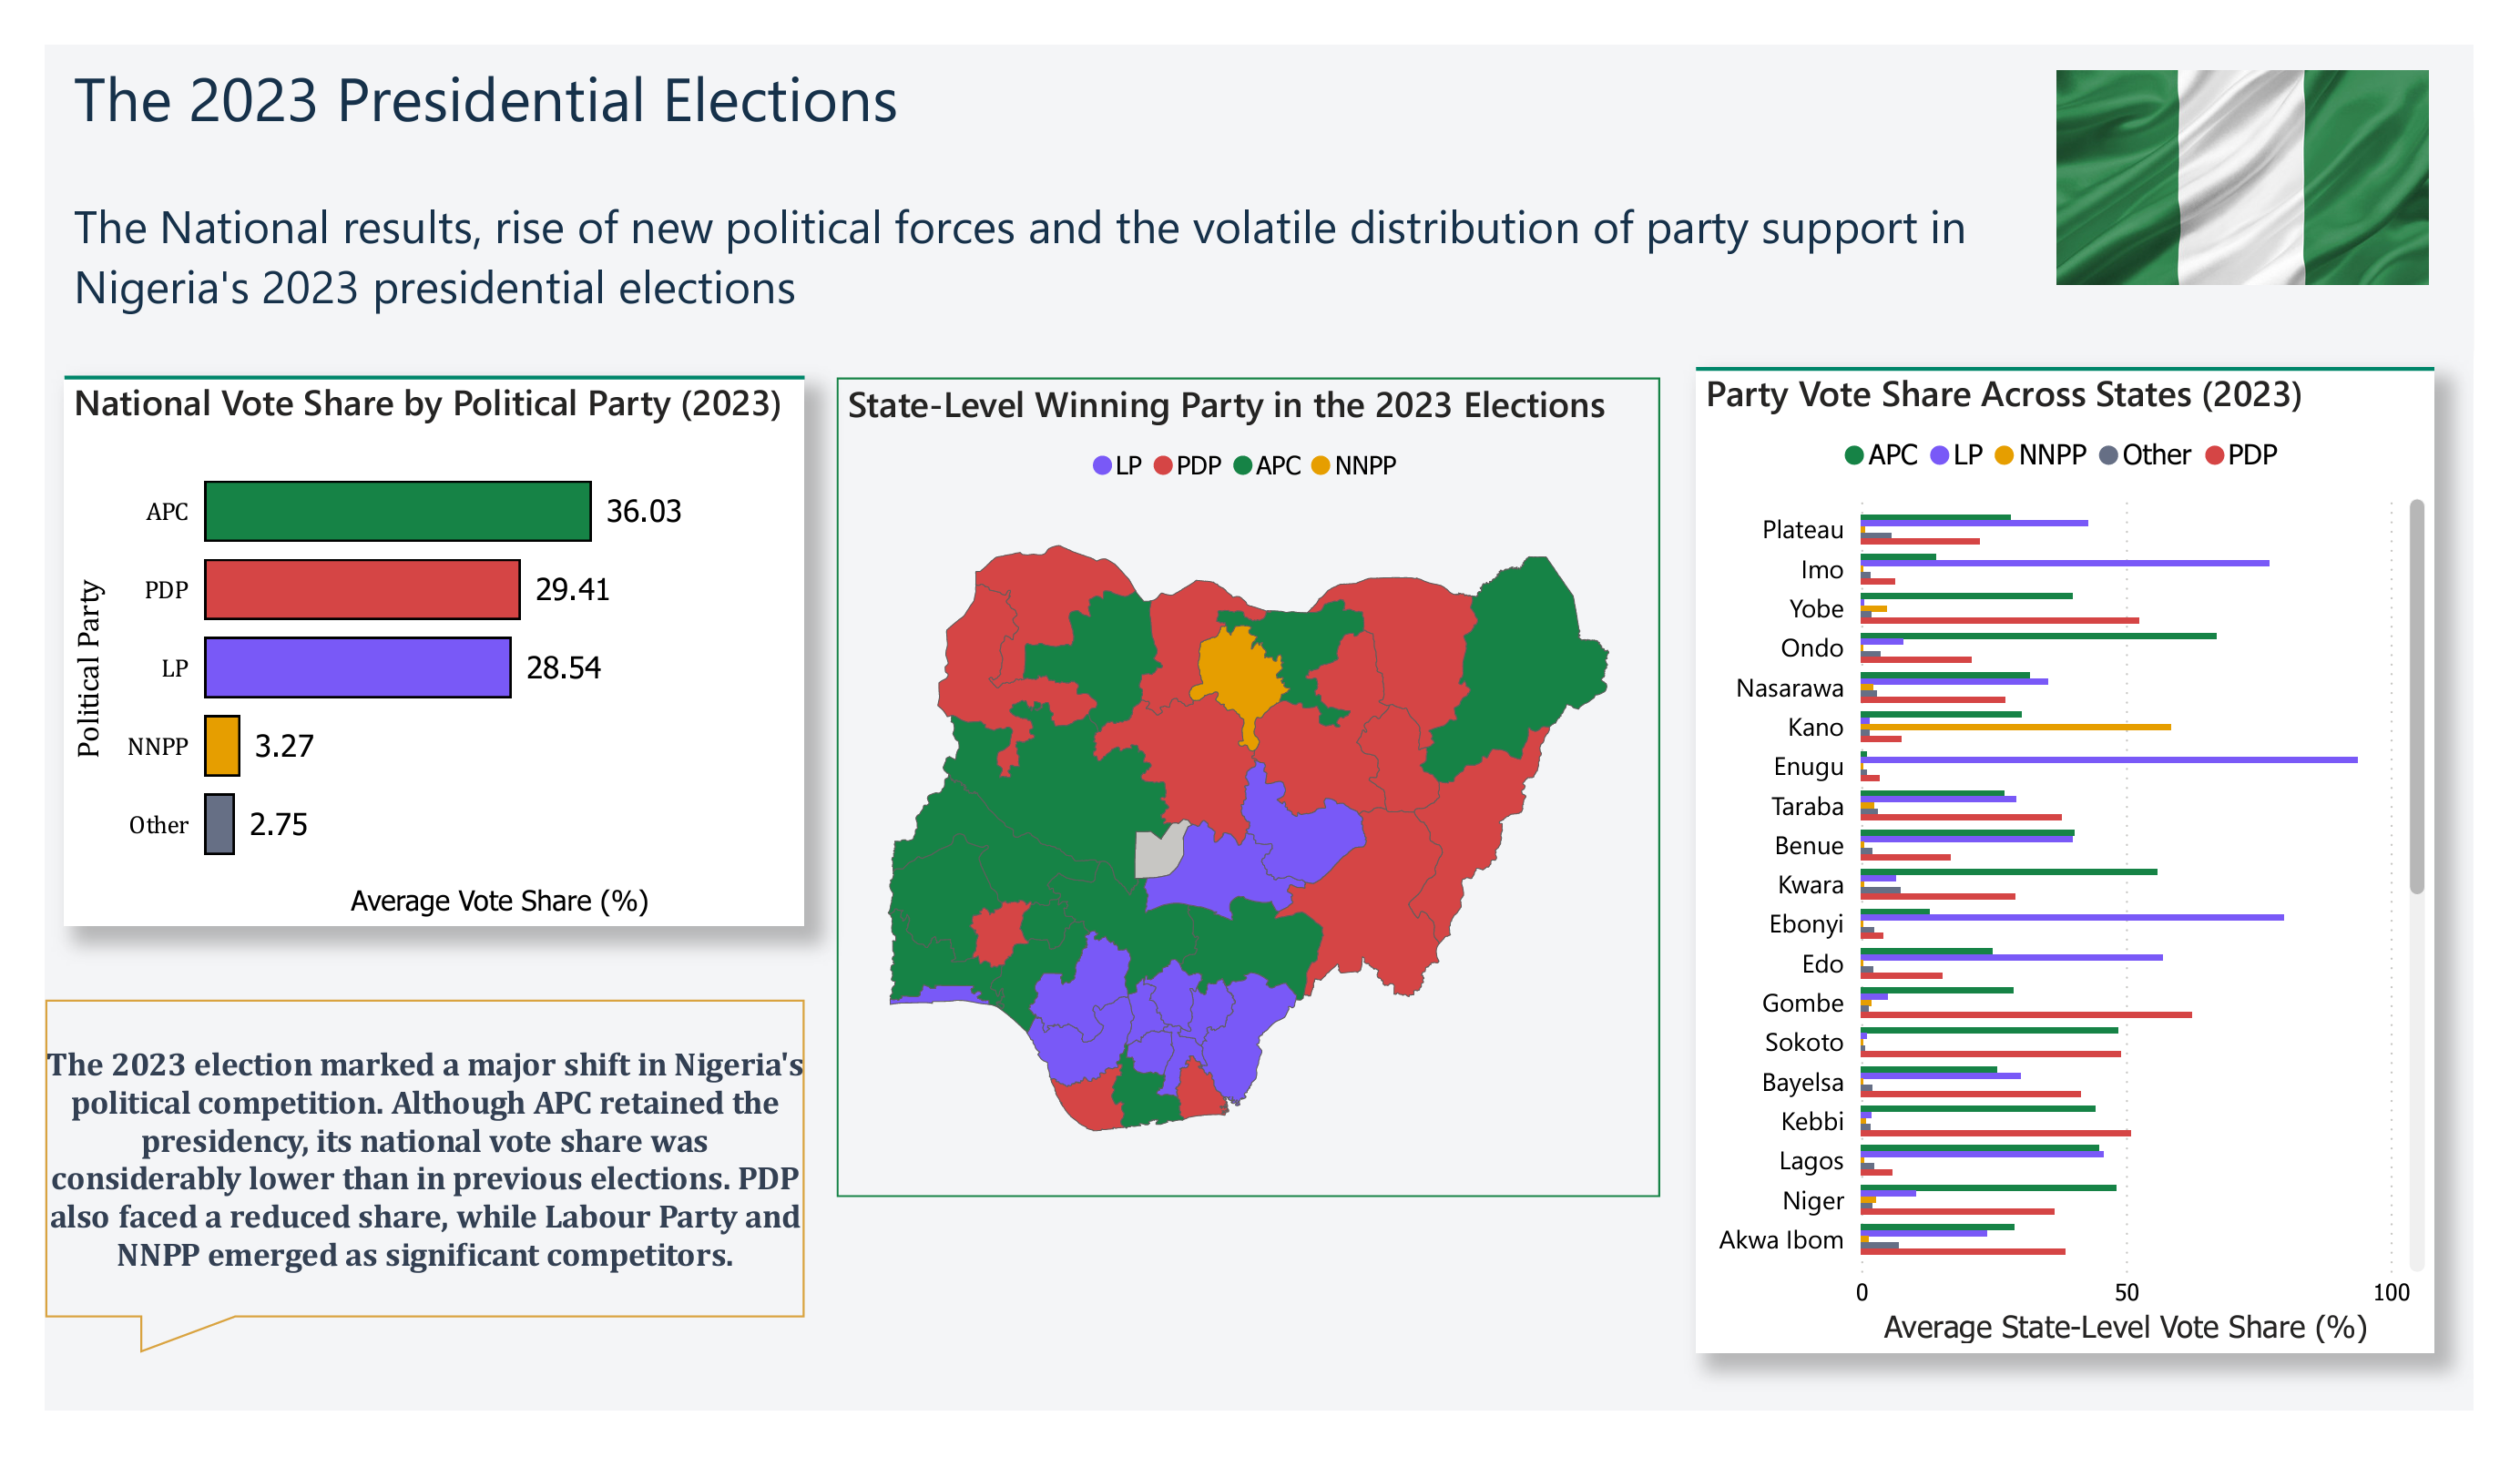

The dashboard page shown, as its layout file describes it:
{"tool":"powerbi","page":{"name":"THE 2023 ELECTIONS","canvas":[1280,720],"ordinal":5},"visuals":[{"type":"textbox","box":[10.3,0,445.2,60.2],"z":0},{"type":"image","box":[1046.2,13.2,223.3,113.1],"z":1000},{"type":"textbox","box":[10.3,73.5,1035.9,82.3],"z":2000},{"type":"clusteredBarChart","title":"National Vote Share by Political Party (2023)","fields":{"Category":["dim_party.party_name"],"Y":["Avg(fact_party_result.vote_share_pct)"]},"box":[10.3,174.9,389.4,289.5],"z":3000},{"type":"shape","box":[10.3,158.7,389.4,32.3],"z":4000},{"type":"shapeMap","title":"State-Level Winning Party in the 2023 Elections","fields":{"Category":["dim_state.state"],"Series":["fact_state_election.winner_2023_full_party"]},"box":[417.3,174.9,433.5,432],"z":5000},{"type":"clusteredBarChart","title":"Party Vote Share Across States (2023)","fields":{"Category":["dim_state.state"],"Series":["dim_party.party_name"],"Y":["Avg(fact_party_result.vote_share_pct)"]},"box":[869.9,170.4,389.4,518.7],"z":6000},{"type":"shape","box":[869.9,154.3,389.4,32.3],"z":7000},{"type":"shape","box":[0,502.5,399.7,186.6],"z":8000}]}

Visuals, with their boxes on the page's 1280x720 design canvas (x1, y1, x2, y2). These are canvas units, not pixel positions in the 2520x1457 screenshot, which may show the page scaled, cropped or inside an application window:
textbox: region(10, 0, 456, 60)
image: region(1046, 13, 1270, 126)
textbox: region(10, 74, 1046, 156)
"National Vote Share by Political Party (2023)" clusteredBarChart: region(10, 175, 400, 464)
shape: region(10, 159, 400, 191)
"State-Level Winning Party in the 2023 Elections" shapeMap: region(417, 175, 851, 607)
"Party Vote Share Across States (2023)" clusteredBarChart: region(870, 170, 1259, 689)
shape: region(870, 154, 1259, 187)
shape: region(0, 502, 400, 689)
